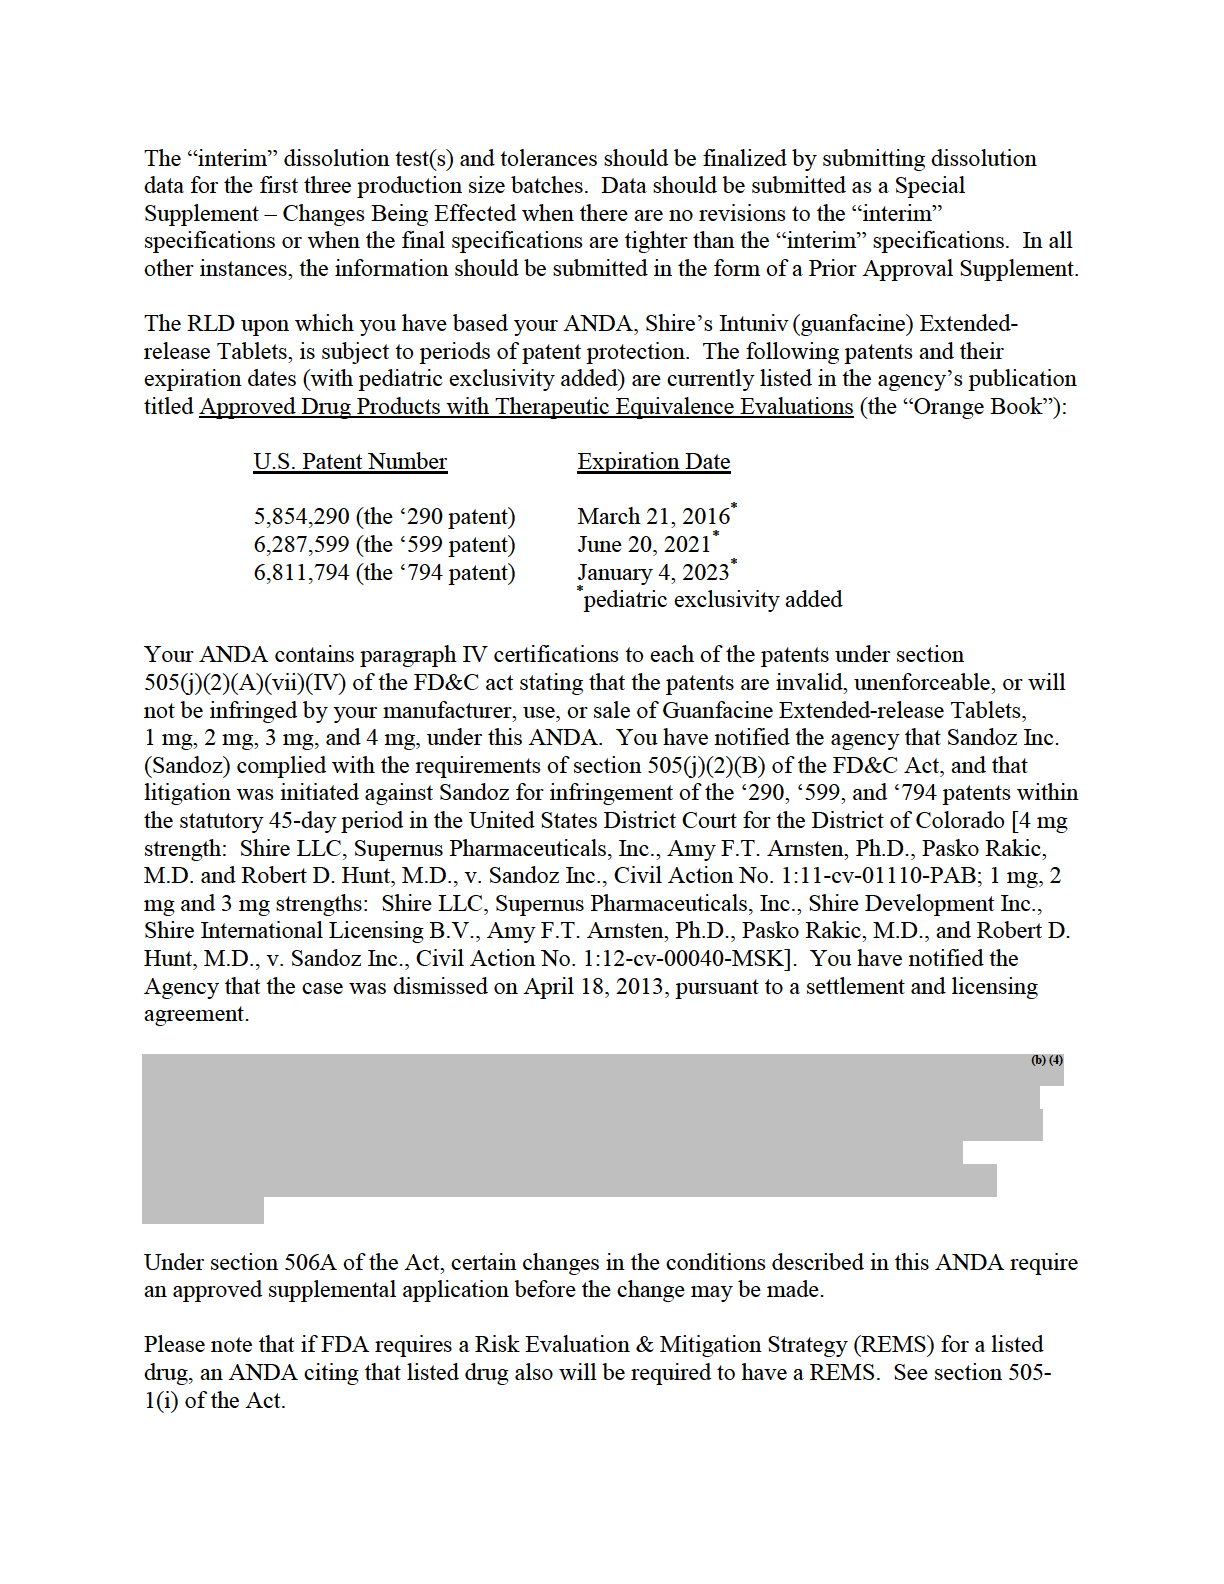nolines: (255, 450, 846, 611)
